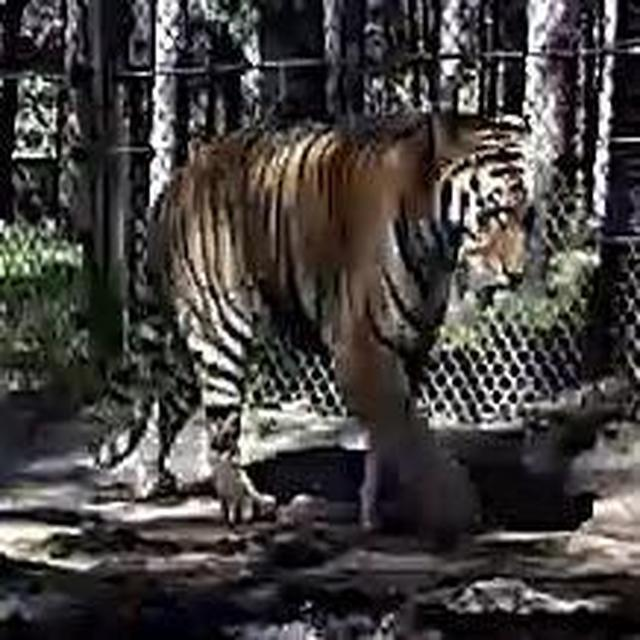tiger: (89, 102, 541, 545)
